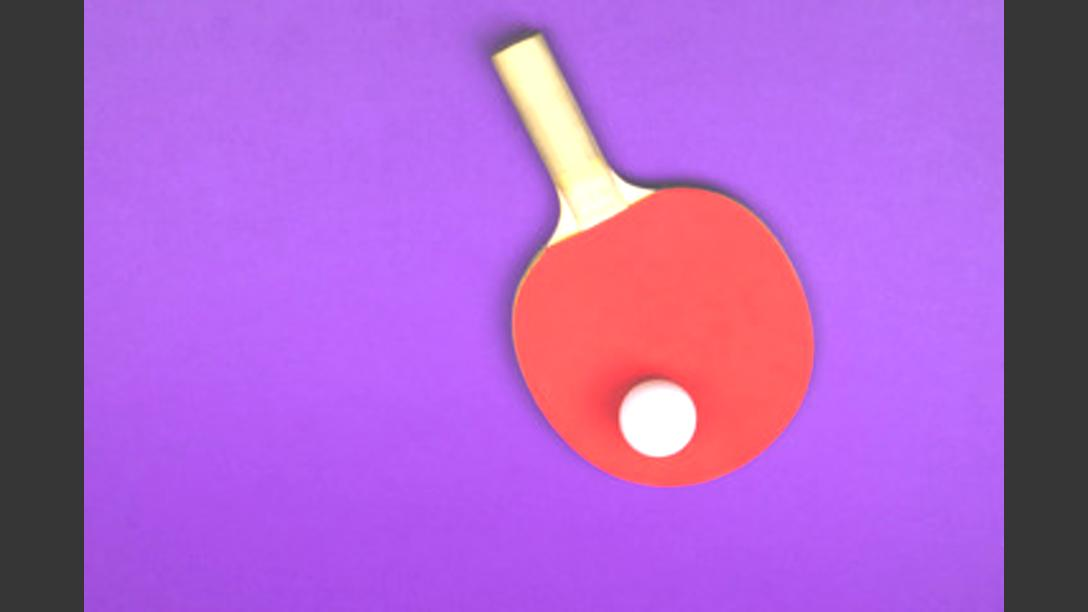Table-Tennis-Ball: (624, 382, 694, 456)
